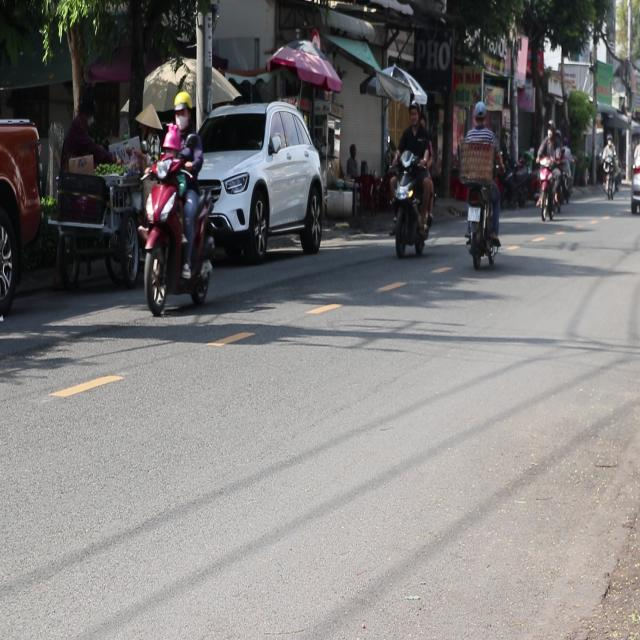helmet: (172, 90, 192, 129)
licenseplate: (136, 87, 217, 317), (459, 98, 503, 270)
motorcyclist: (472, 100, 486, 125)
nohelmet: (468, 207, 481, 223)
